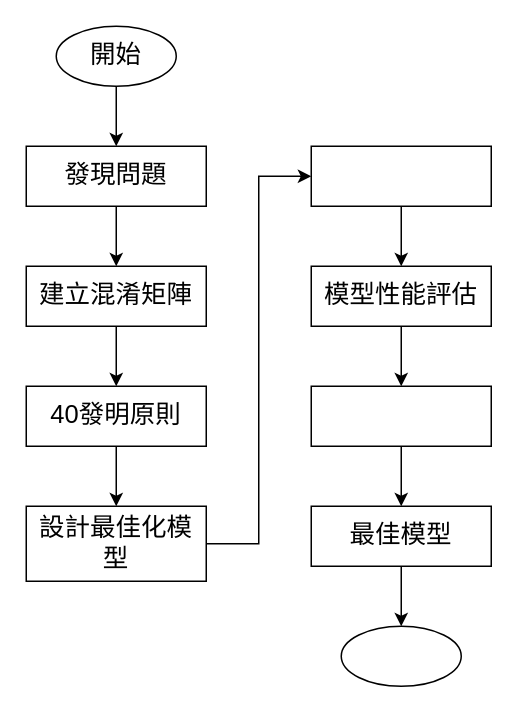
The diagram is 518 pixels wide and 713 high, and some of its shapes have lost their labels. Here are the shapes that lost their labels. From the top down, the centre of each, then its label:
the point at 400,175: 程式碼撰寫
the point at 400,415: 模型參數調整
the point at 400,655: 結束
